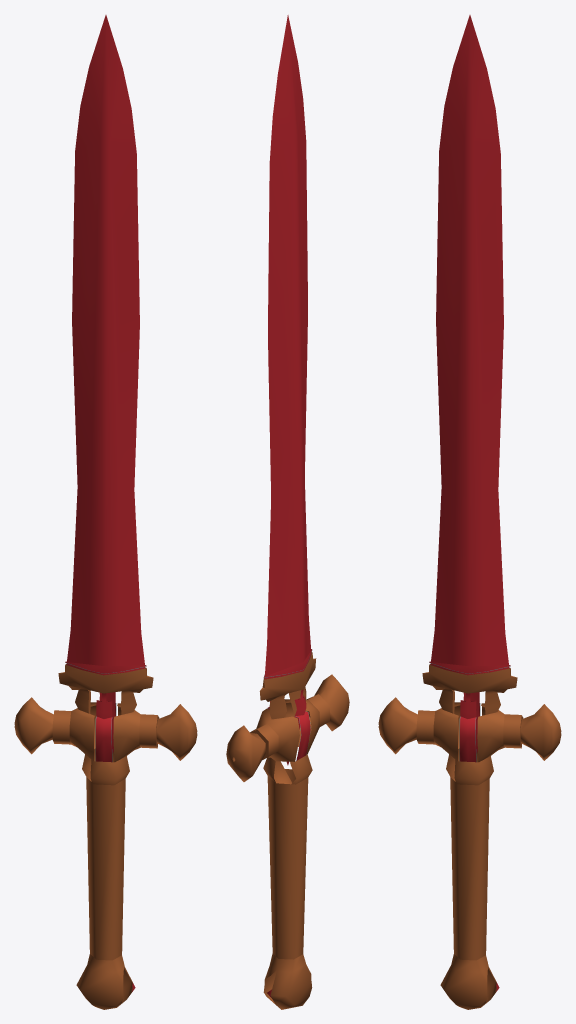
File: weapon.obj
3 views of the same model, side by side, from view 1: azimuth 90°, elevation 25°; view 2: azimuth 150°, elevation 25°; view 3: azimuth 270°, elevation 25° (orthographic).
Parts seen in each view (by area): view 1: Bronze_sword; view 2: Bronze_sword; view 3: Bronze_sword.
Boxes of the visible parts, x1,y1,x2,y2 form: Bronze_sword: (14,15,197,1009); Bronze_sword: (226,15,349,1009); Bronze_sword: (378,15,561,1009).
Size of the model in its own units: 0.1132 by 2.62 by 0.4372.
